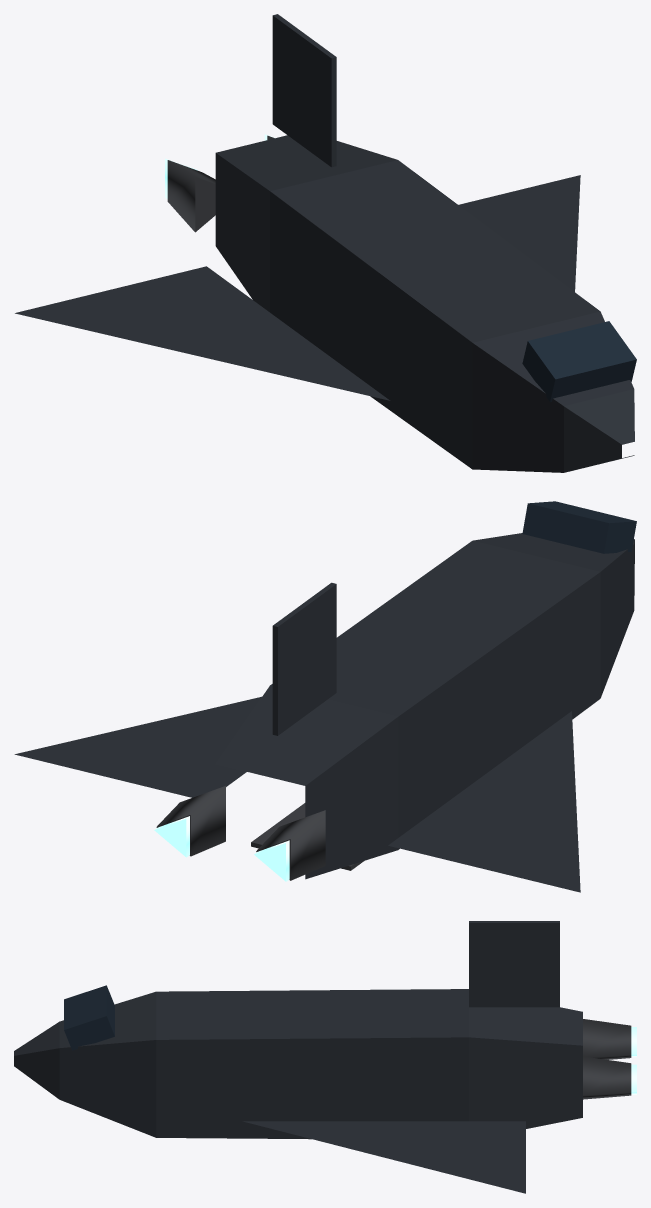
File: space_ship_shuttle_mk4_lod2.glb
3 renders of one model, top to bottom at view 1: azimuth 30°, elevation 25°; view 2: azimuth 150°, elevation 25°; view 3: azimuth 270°, elevation 25°, orthographic. The views are drawn at different scales.
Visible parts, largest first — view 1: body, engine_1; view 2: body, engine_1, engine_0, ramp; view 3: body, engine_0, engine_1.
Boxes of the visible parts, box(x1,y1,x2,y2) form: body: box(15, 14, 636, 472); engine_1: box(165, 158, 215, 232); body: box(14, 501, 636, 892); engine_1: box(254, 810, 325, 881); engine_0: box(154, 786, 225, 857); ramp: box(251, 803, 363, 870); body: box(14, 921, 582, 1193); engine_0: box(583, 1056, 636, 1099); engine_1: box(583, 1019, 636, 1059).
Bounding box in the file's own units: 10.88 × 4.61 × 13.4.
